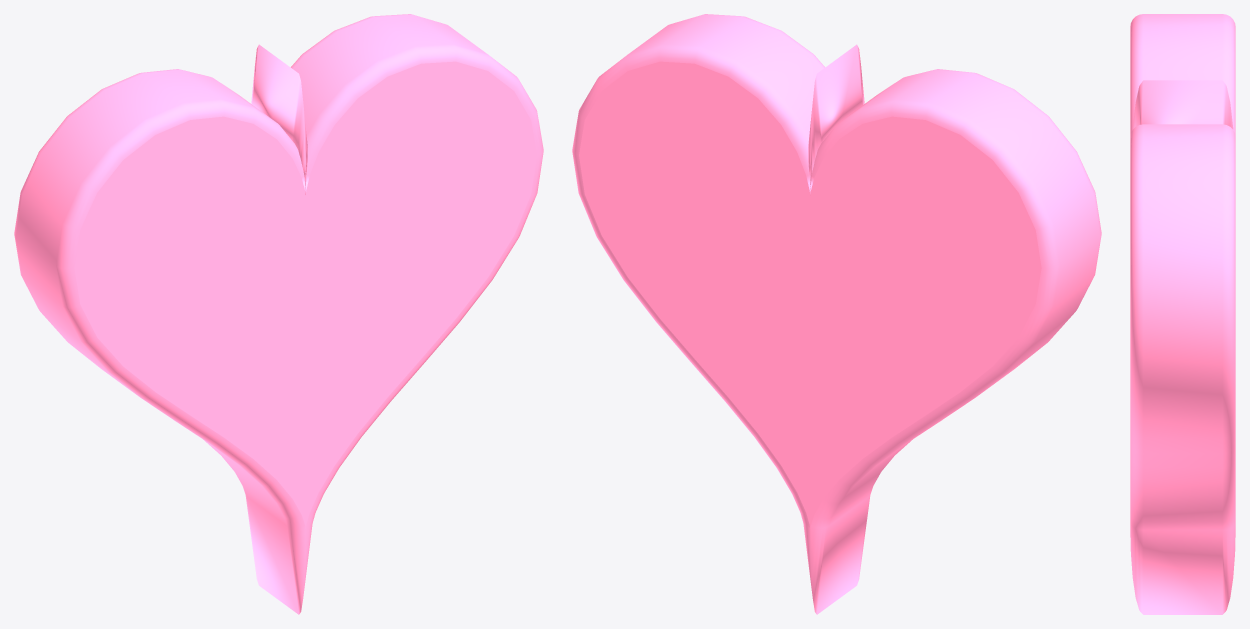
File: heart.glb
3 renders of one model, left to right at view 1: azimuth 30°, elevation 25°; view 2: azimuth 150°, elevation 25°; view 3: azimuth 270°, elevation 25°, orthographic.
Visible parts, largest first — view 1: heart; view 2: heart; view 3: heart.
Boxes of the visible parts, x1,y1,x2,y2 form: heart: (14, 14, 543, 614); heart: (572, 14, 1101, 614); heart: (1130, 14, 1235, 614).
Bounding box in the file's own units: 1.68 × 1.79 × 0.32.
